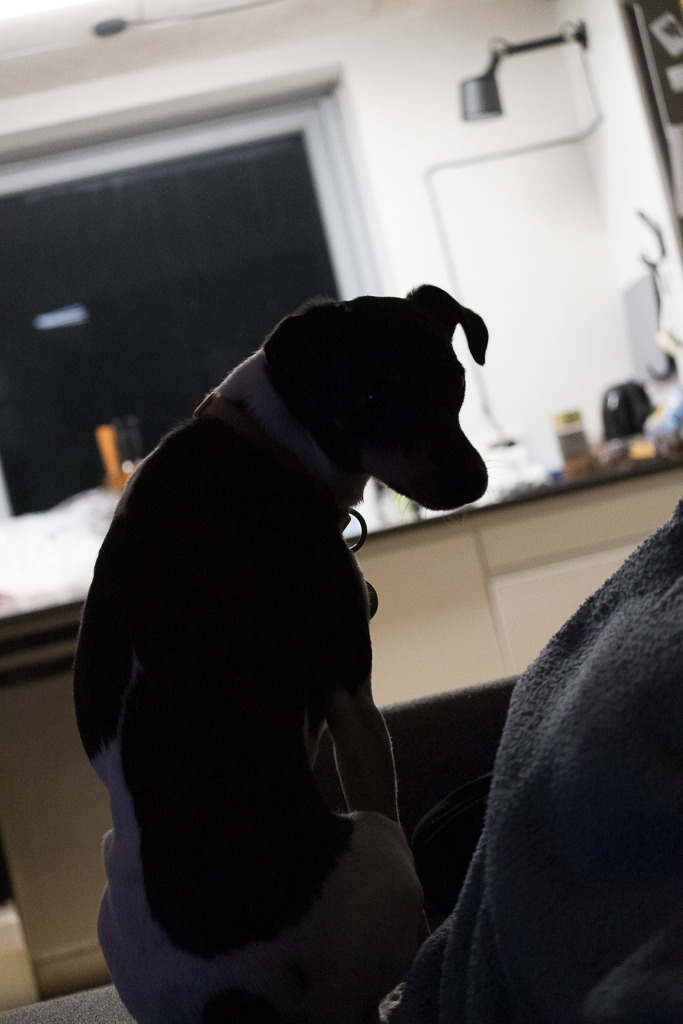Dog: (65, 278, 501, 1024)
